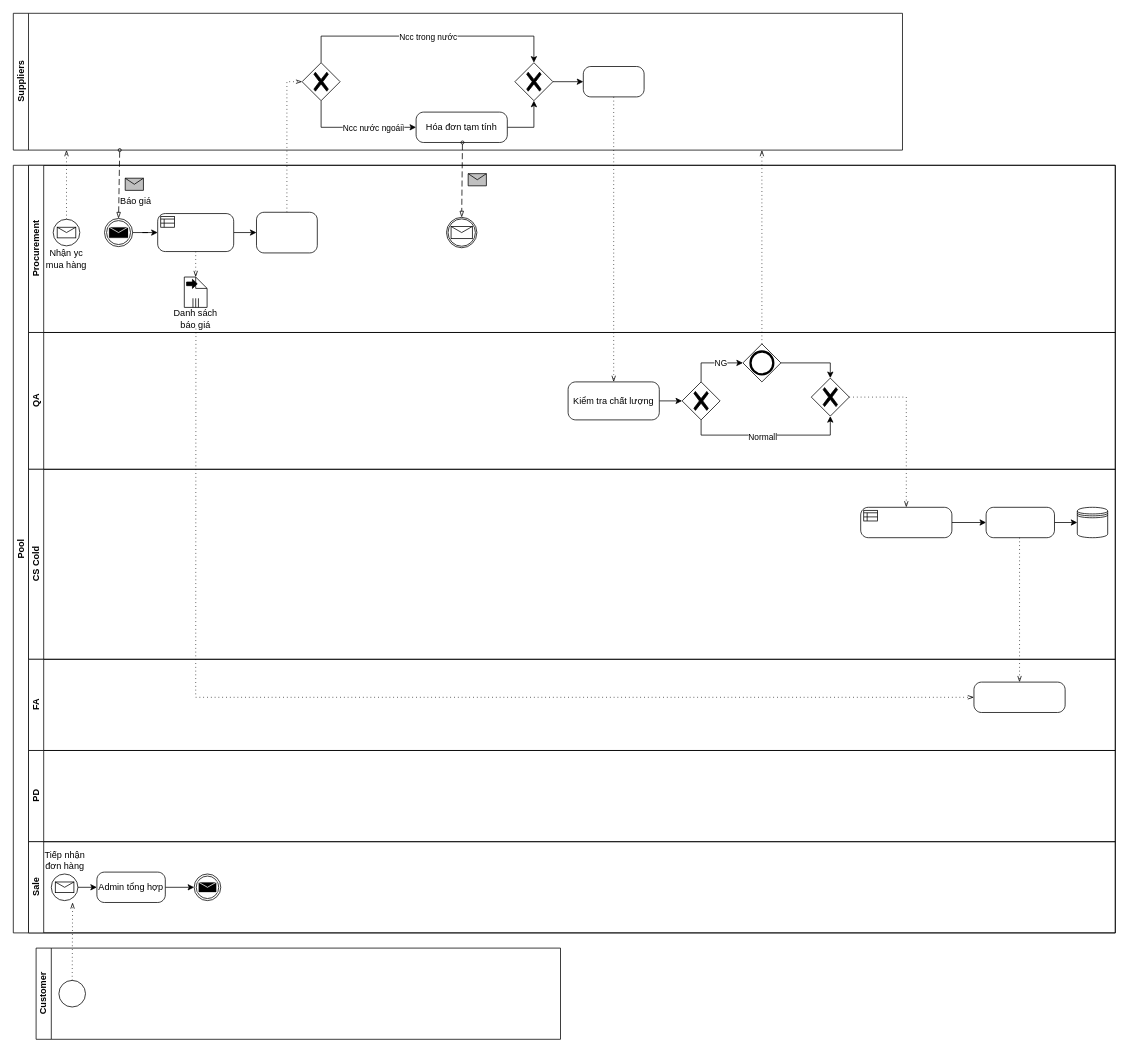
This 1129x1053 diagram has some shape labels left out. Here are the shapes that lost their labels. From the top down, the centre of each, then its label:
(x=613, y=81): Giao hàng
(x=195, y=232): Duyệt báo giá
(x=286, y=232): Yêu cầu ký HĐ mua hàng
(x=906, y=522): Phân loại cá
(x=1019, y=522): Nhập kho lạnh
(x=1019, y=696): Ra hóa đơn mua
